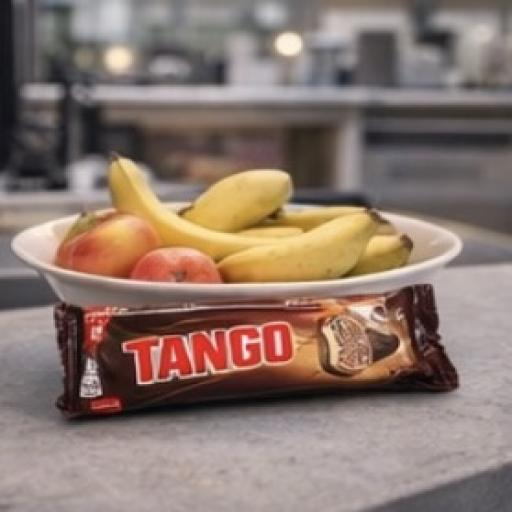tango: (46, 281, 480, 425)
